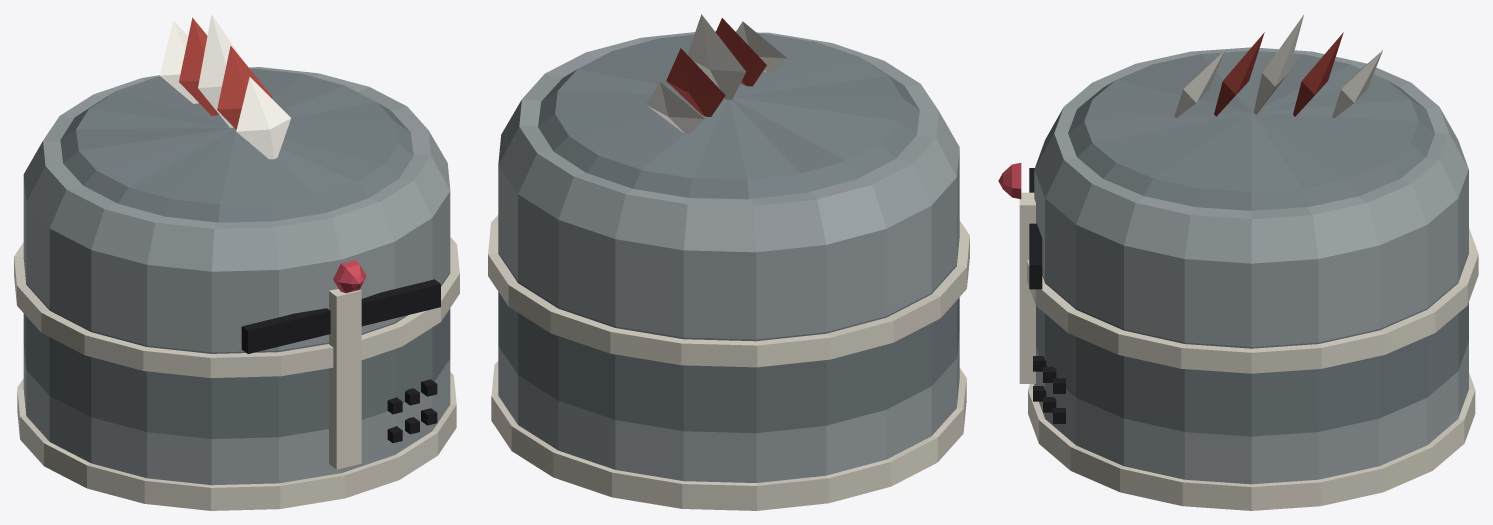
File: armor_head_great.glb
3 views of the same model, side by side, from view 1: azimuth 30°, elevation 25°; view 2: azimuth 150°, elevation 25°; view 3: azimuth 270°, elevation 25° (orthographic). The views are drawn at different scales.
Parts seen in each view (by area): view 1: armor_head_great; view 2: armor_head_great; view 3: armor_head_great.
Part boxes in pixels (<box>): armor_head_great: <box>14,14,459,510</box>; armor_head_great: <box>488,14,969,510</box>; armor_head_great: <box>998,15,1478,510</box>.
Bounding box in the file's own units: 0.71 × 0.67 × 0.73.
